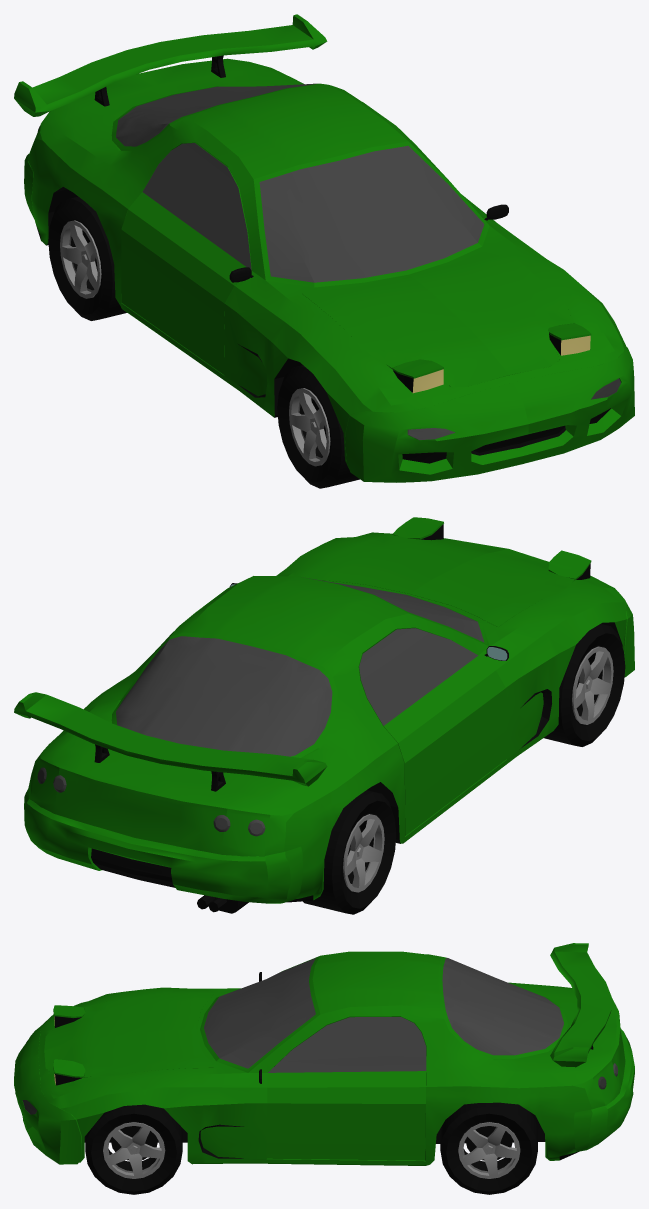
File: CarParts.fbx
The picture shows the model from 3 angles, top to bottom: view 1: azimuth 30°, elevation 25°; view 2: azimuth 150°, elevation 25°; view 3: azimuth 270°, elevation 25°; orthographic projection. The views are drawn at different scales.
Visible parts, largest first — view 1: RX7, Capo, ParaChoqueDian, PortaD, Aerofolio, PneuTrasD, PneuFrenD, CalotaDianD, CalotaTrasD, LuzDianD, LuzDiantE; view 2: RX7, PortaD, Capo, ParaChoqueTras, Aerofolio, PneuTrasD, PneuFrenD, CalotaTrasD, CalotaDianD, LuzDianD, LuzDiantE, ParaChoqueDian (+1 smaller); view 3: RX7, PortaE, Capo, PneuTrasE, PneuDianE, Aerofolio, ParaChoqueDian, ParaChoqueTras, CalotaTrasE, CalotaDianE, LuzDiantE, LuzDianD (+2 smaller).
Part boxes in pixels (x1,y1,x2,y2): RX7: [28, 58, 625, 468]; Capo: [302, 245, 574, 386]; ParaChoqueDian: [345, 346, 634, 482]; PortaD: [121, 143, 251, 374]; Aerofolio: [14, 14, 327, 116]; PneuTrasD: [48, 196, 126, 320]; PneuFrenD: [277, 365, 359, 488]; CalotaDianD: [289, 388, 330, 466]; CalotaTrasD: [60, 220, 101, 298]; LuzDianD: [392, 359, 443, 393]; LuzDiantE: [548, 323, 591, 355]; RX7: [28, 532, 626, 902]; PortaD: [358, 628, 507, 835]; Capo: [304, 534, 575, 626]; ParaChoqueTras: [24, 789, 303, 903]; Aerofolio: [14, 692, 327, 786]; PneuTrasD: [303, 790, 396, 914]; PneuFrenD: [544, 624, 625, 746]; CalotaTrasD: [343, 814, 384, 892]; CalotaDianD: [572, 646, 613, 724]; LuzDianD: [548, 550, 591, 579]; LuzDiantE: [392, 517, 443, 540]; ParaChoqueDian: [618, 592, 634, 677]; RX7: [38, 951, 625, 1165]; PortaE: [266, 1017, 426, 1160]; Capo: [44, 993, 213, 1077]; PneuTrasE: [440, 1102, 537, 1194]; PneuDianE: [85, 1104, 182, 1194]; Aerofolio: [550, 943, 611, 1067]; ParaChoqueDian: [14, 1020, 81, 1164]; ParaChoqueTras: [574, 1028, 634, 1151]; CalotaTrasE: [458, 1122, 520, 1178]; CalotaDianE: [103, 1122, 165, 1178]; LuzDiantE: [53, 1059, 85, 1085]; LuzDianD: [53, 1005, 85, 1027].
Size of the model in its own units: 183 by 129 by 432.
